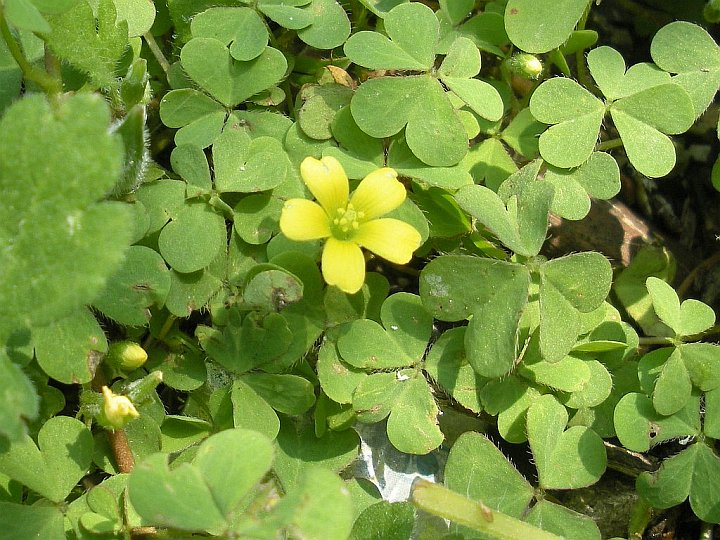oxalis: (104, 349, 720, 538), (317, 20, 683, 208), (44, 47, 315, 292), (414, 209, 610, 364)
